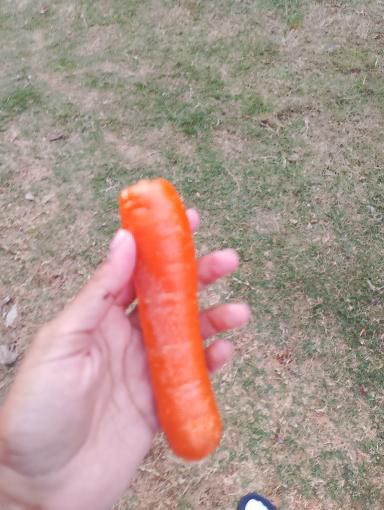carrot: (103, 179, 236, 472)
